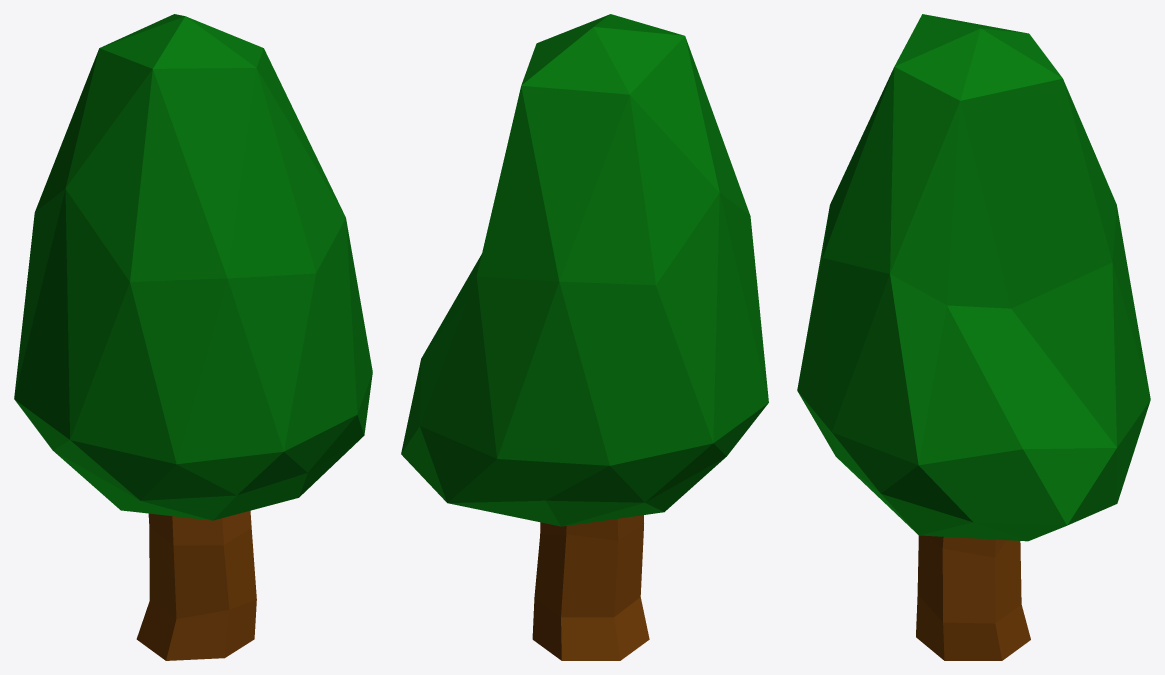
File: Baum_01.fbx
The picture shows the model from 3 angles, left to right: view 1: azimuth 30°, elevation 25°; view 2: azimuth 150°, elevation 25°; view 3: azimuth 270°, elevation 25°; orthographic projection. The views are drawn at different scales.
Parts seen in each view (by area): view 1: Baum_01; view 2: Baum_01; view 3: Baum_01.
Part boxes in pixels (left/top/right/bottom): Baum_01: left=14, top=14, right=372, bottom=660; Baum_01: left=401, top=14, right=768, bottom=660; Baum_01: left=797, top=14, right=1150, bottom=660.
Size of the model in its own units: 327 by 644 by 339.
